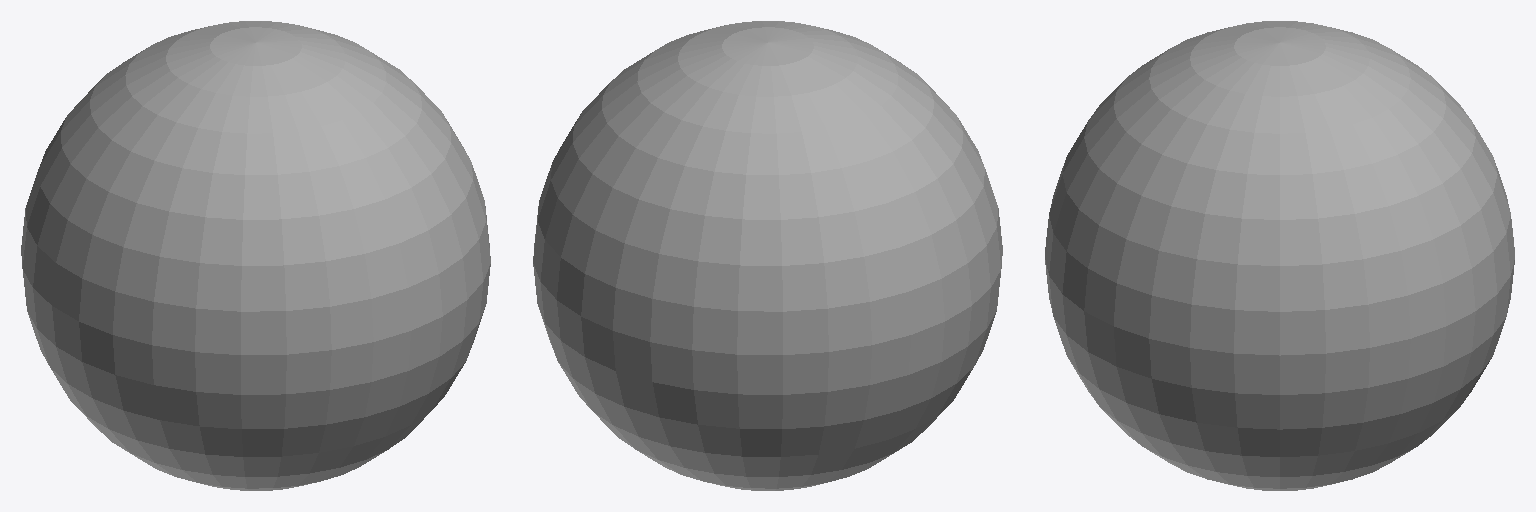
Rendered from earth.obj.
3 views of the same model, side by side, from view 1: azimuth 30°, elevation 25°; view 2: azimuth 150°, elevation 25°; view 3: azimuth 270°, elevation 25° (orthographic).
Visible parts, largest first — view 1: Earth; view 2: Earth; view 3: Earth.
Part boxes in pixels (x1,y1,x2,y2): Earth: (21, 21, 490, 490); Earth: (533, 21, 1002, 490); Earth: (1045, 21, 1514, 490).
Bounding box in the file's own units: 1226 × 1226 × 1226.